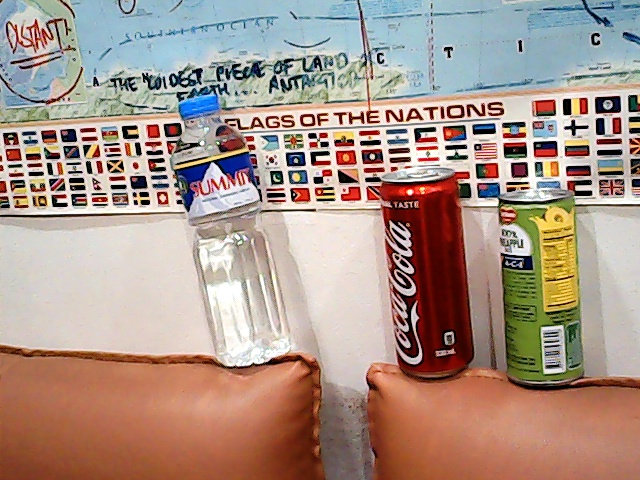Cola: (358, 163, 482, 386)
Pine Juice: (491, 180, 603, 396)
Summit Water: (163, 87, 301, 365)
